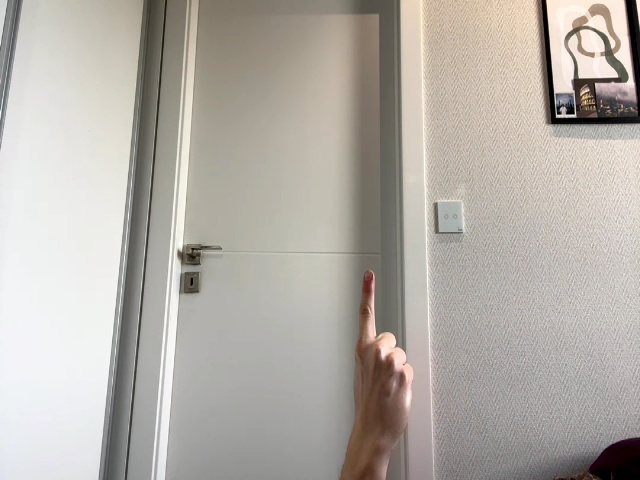D: (354, 270, 413, 441)
